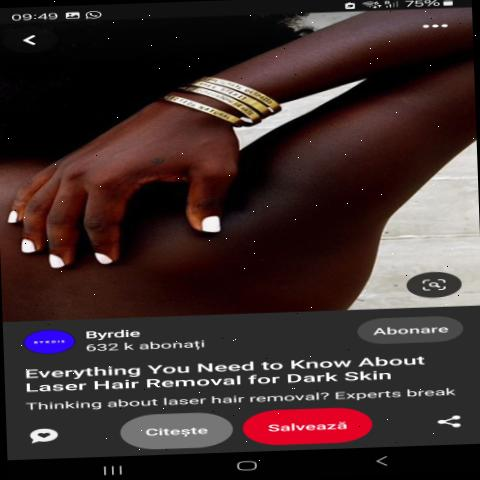hands: (0, 70, 314, 291)
